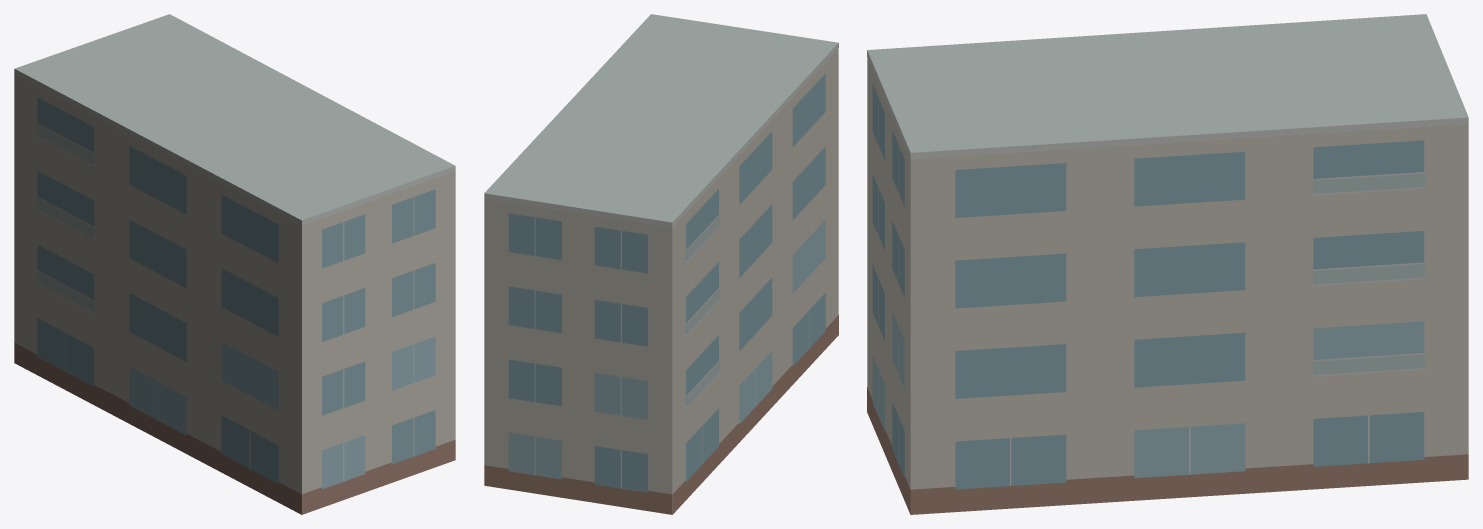
The model's file is survey-upis-32931082.glb.
3 views of the same model, side by side, from view 1: azimuth 30°, elevation 25°; view 2: azimuth 150°, elevation 25°; view 3: azimuth 270°, elevation 25° (orthographic). The views are drawn at different scales.
Visible parts, largest first — view 1: survey-upis-32931082.tmp; view 2: survey-upis-32931082.tmp; view 3: survey-upis-32931082.tmp.
Boxes of the visible parts, box(x1,y1,x2,y2) form: survey-upis-32931082.tmp: box(14, 14, 455, 514); survey-upis-32931082.tmp: box(484, 14, 838, 514); survey-upis-32931082.tmp: box(867, 14, 1468, 514).
Size of the model in its own units: 10.86 by 13.2 by 19.89.
